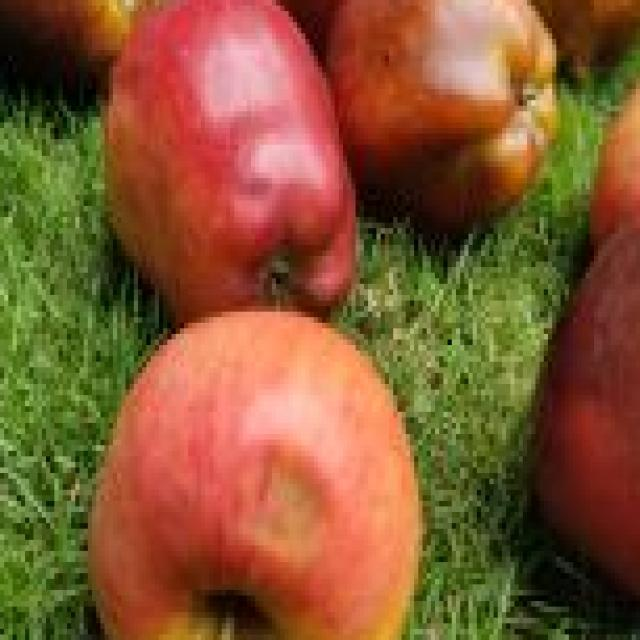Good_Apple 10-21 days: (111, 0, 356, 321)
